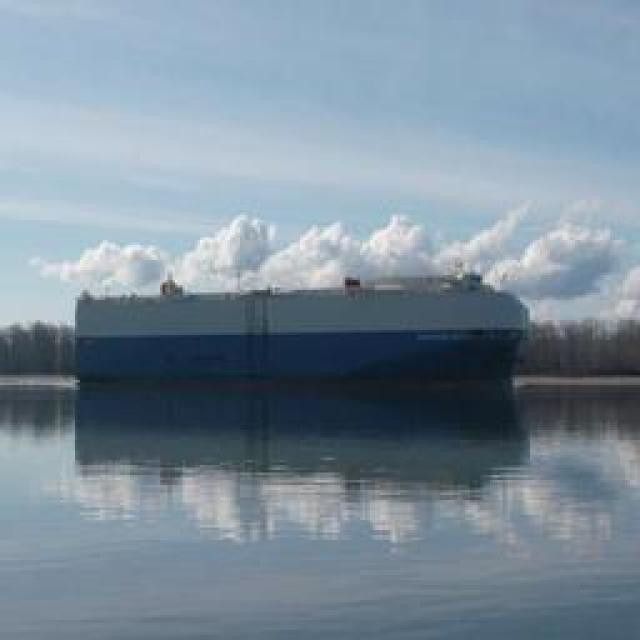CIV_Ship: (69, 282, 524, 390)
